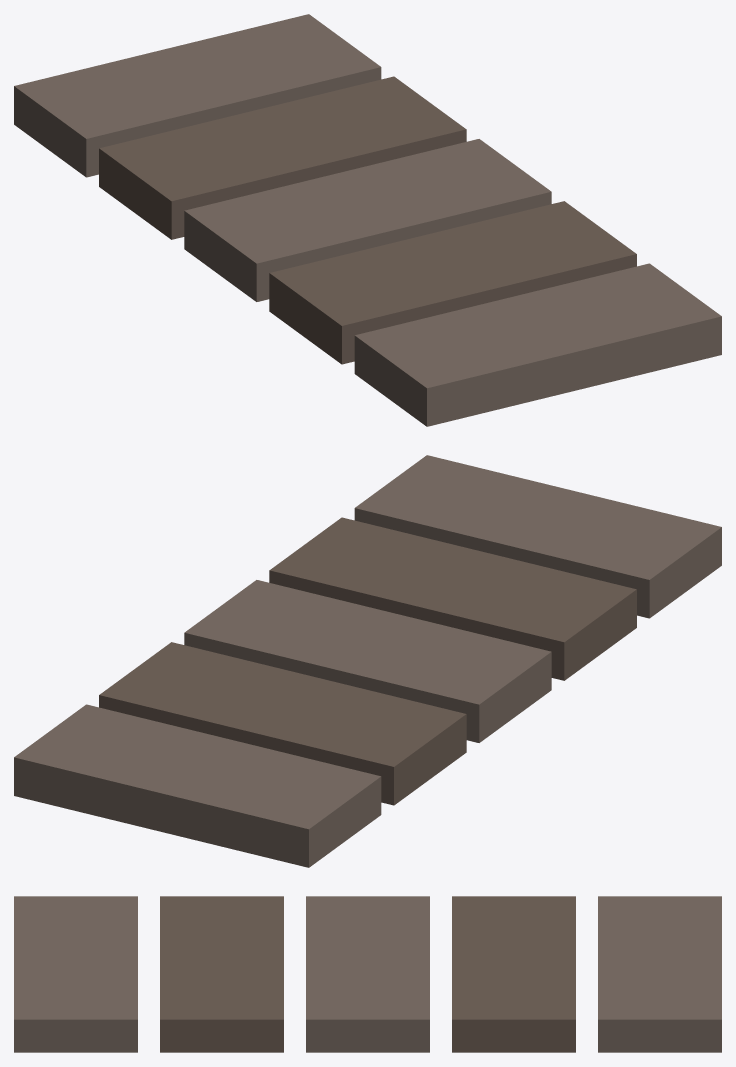
File: imp_qing_shi_dao_lu.glb
3 views of the same model, one above another, from view 1: azimuth 30°, elevation 25°; view 2: azimuth 150°, elevation 25°; view 3: azimuth 270°, elevation 25° (orthographic). The views are drawn at different scales.
Visible parts, largest first — view 1: _MeshInstance3D_249, _MeshInstance3D_246, _MeshInstance3D_248, _MeshInstance3D_247, _MeshInstance3D_245; view 2: _MeshInstance3D_245, _MeshInstance3D_246, _MeshInstance3D_248, _MeshInstance3D_247, _MeshInstance3D_249; view 3: _MeshInstance3D_245, _MeshInstance3D_246, _MeshInstance3D_247, _MeshInstance3D_248, _MeshInstance3D_249.
Part boxes in pixels (bbox=[...]): _MeshInstance3D_249: bbox=[354, 263, 721, 426]; _MeshInstance3D_246: bbox=[99, 76, 466, 239]; _MeshInstance3D_248: bbox=[269, 201, 636, 364]; _MeshInstance3D_247: bbox=[184, 139, 551, 301]; _MeshInstance3D_245: bbox=[14, 14, 381, 177]; _MeshInstance3D_245: bbox=[14, 704, 381, 867]; _MeshInstance3D_246: bbox=[99, 642, 466, 805]; _MeshInstance3D_248: bbox=[269, 517, 636, 680]; _MeshInstance3D_247: bbox=[184, 580, 551, 742]; _MeshInstance3D_249: bbox=[354, 455, 721, 618]; _MeshInstance3D_245: bbox=[598, 896, 721, 1052]; _MeshInstance3D_246: bbox=[452, 896, 575, 1052]; _MeshInstance3D_247: bbox=[306, 896, 429, 1052]; _MeshInstance3D_248: bbox=[160, 896, 283, 1052]; _MeshInstance3D_249: bbox=[14, 896, 137, 1052].
Size of the model in its own units: 0.4 by 0.05 by 0.97.
